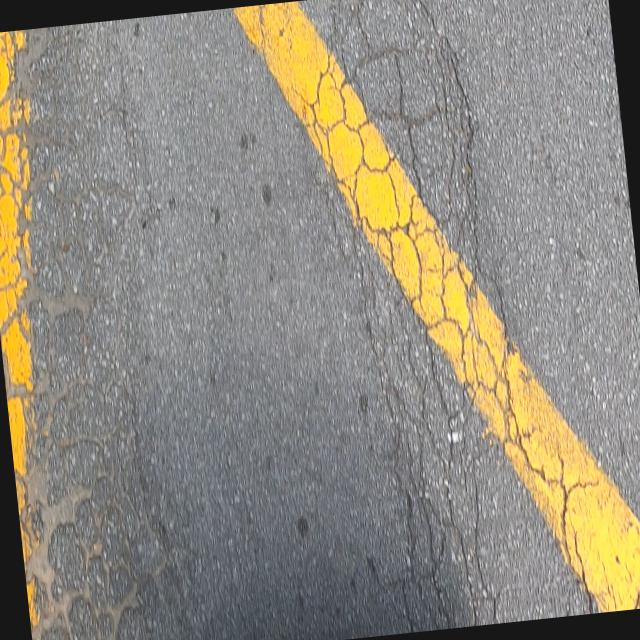Retak-Buaya: (302, 0, 564, 632), (0, 29, 38, 394)
